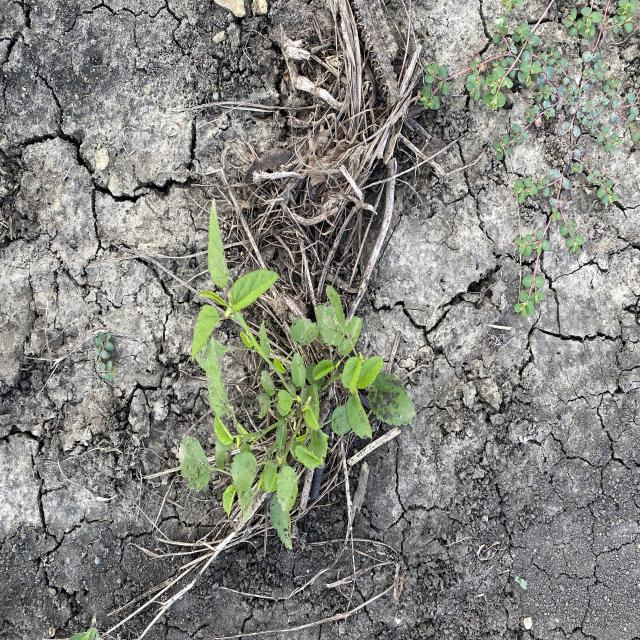PricklySida: (176, 196, 418, 554)
SpottedSpurge: (416, 0, 638, 323), (91, 330, 118, 386)
